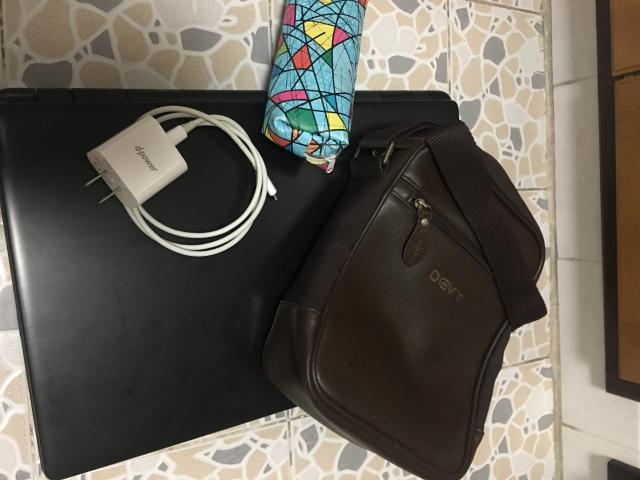wire: (86, 106, 276, 256)
